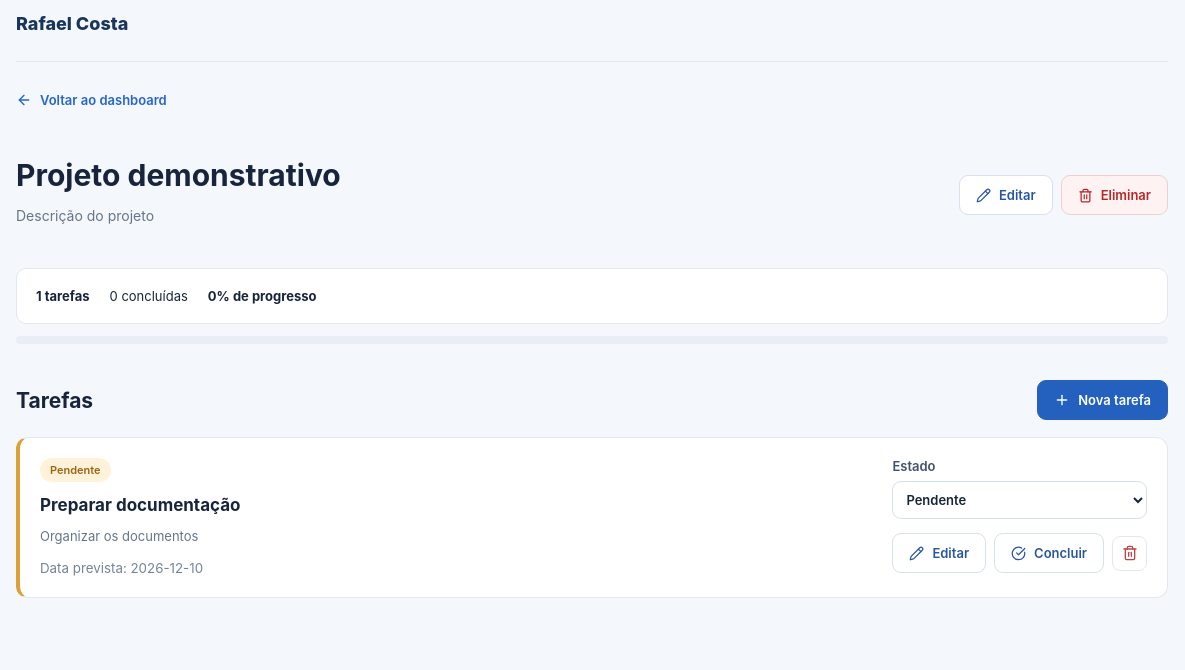
Test case: Página de detalhes do projeto › conclui uma tarefa e atualiza progresso
Expected: the heading "Preparar documentação" is shown, [40,495,240,515]
Click the button "Concluir" at (1049, 553), box [994,533,1104,573]
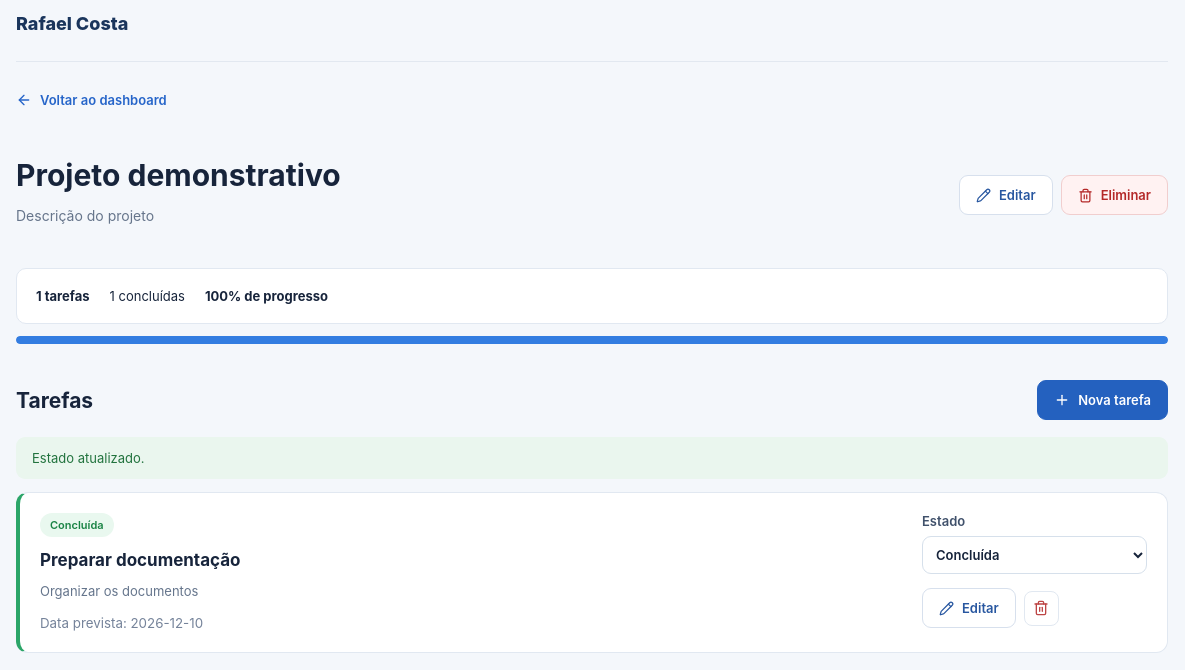
Expected: the text "100% de progresso" is shown, [205,288,328,304]
Expected: the text with class "status-concluida" reads "Concluída", [50,518,104,532]
